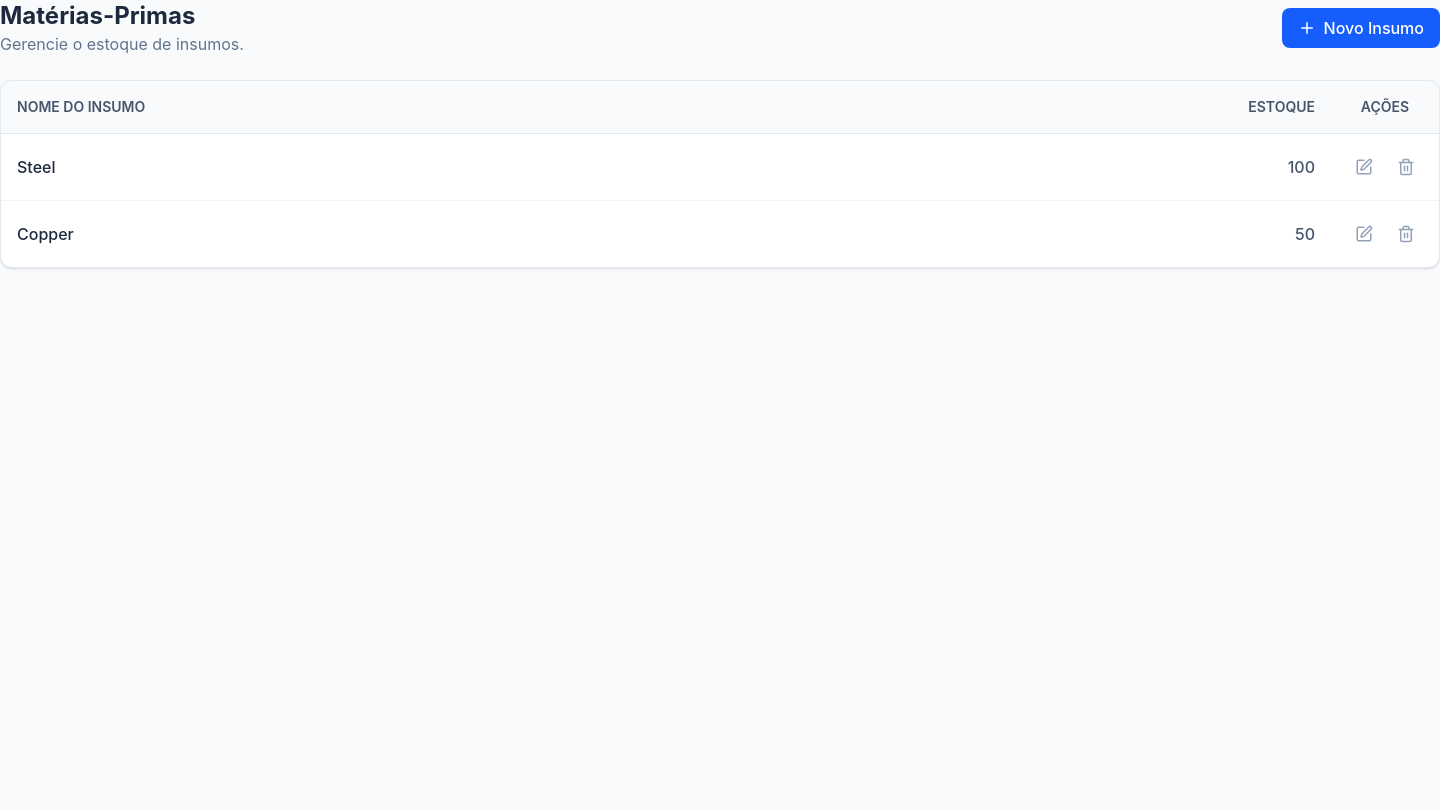
Test: RawMaterials › opens create modal when Novo Insumo is clicked
Click the button "Novo Insumo".
click(1361, 28)  # box [1282,8,1439,48]
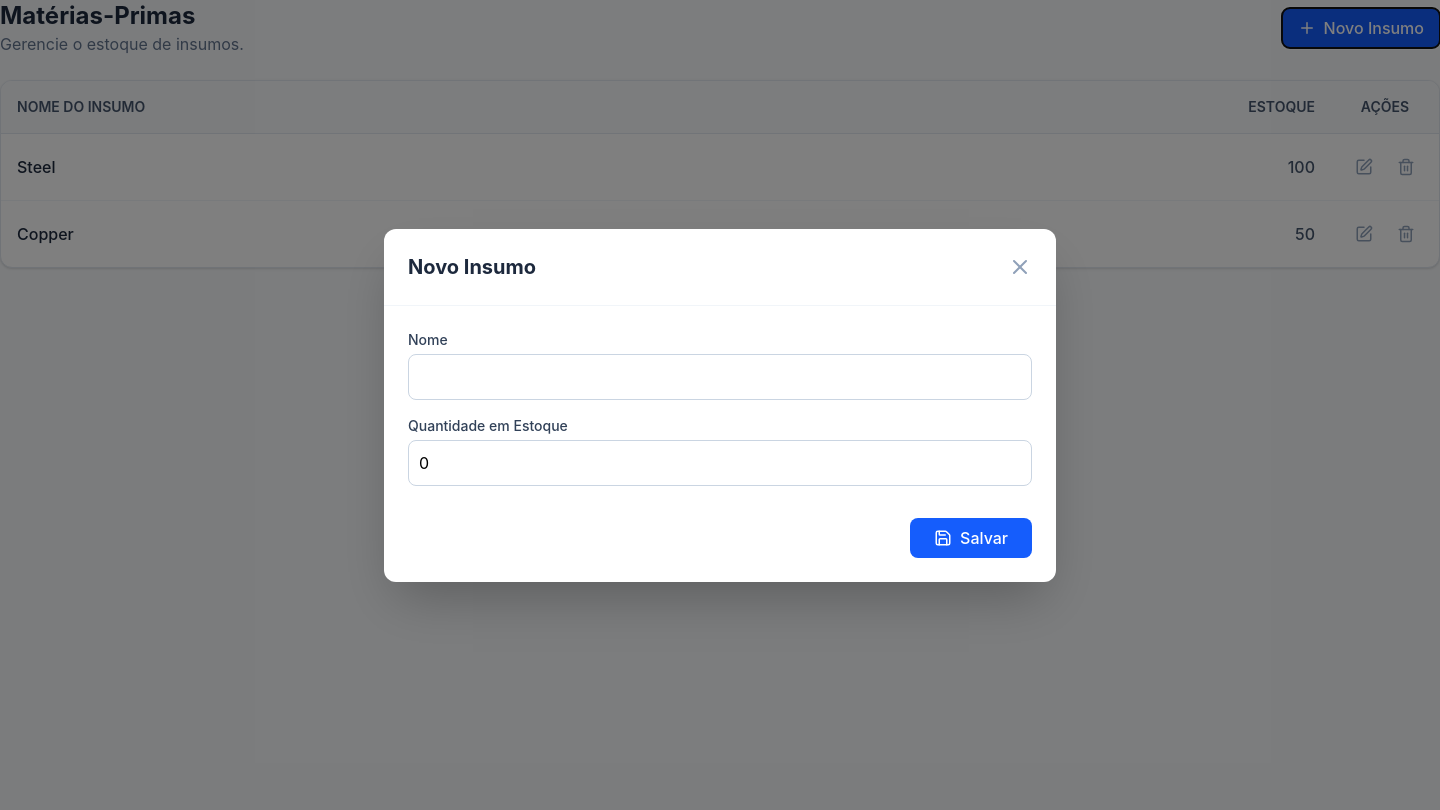
Result: the heading "Novo Insumo" is shown at [408,252,536,280]
